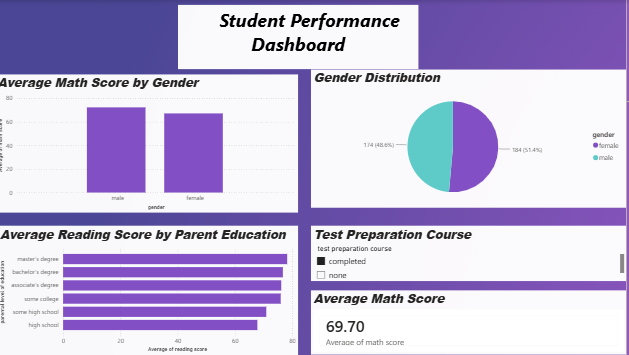

This screenshot's page, from the dashboard's own definition file:
{"tool":"powerbi","page":{"name":"Page 1","canvas":[1280,720],"ordinal":0},"visuals":[{"type":"clusteredColumnChart","title":"Average Math Score by Gender","fields":{"Y":["Avg(StudentsPerformance.math score)"],"Category":["StudentsPerformance.gender"]},"box":[0,150,615,280],"z":1000},{"type":"pieChart","title":"Gender Distribution","fields":{"Category":["StudentsPerformance.gender"],"Y":["CountNonNull(StudentsPerformance.gender)"]},"box":[640,140,640,280],"z":2000},{"type":"cardVisual","title":"Average Math Score","fields":{"Data":["Avg(StudentsPerformance.math score)"]},"box":[640,590,640,130],"z":3000},{"type":"clusteredBarChart","title":"Average Reading Score by Parent Education","fields":{"Category":["StudentsPerformance.parental level of education"],"Y":["Avg(StudentsPerformance.reading score)"]},"box":[5,457.5,610,262.5],"z":4000},{"type":"slicer","title":"Test Preparation Course","fields":{"Values":["StudentsPerformance.test preparation course"]},"box":[640,457.5,640,112.5],"z":5000},{"type":"textbox","box":[370,10,487.5,130],"z":7000}]}

Visuals, with their boxes in screenshot pixels (x1, y1, x2, y2), scaled from the page's 1280x720 canvas onto the 629x355 screenshot:
"Average Math Score by Gender" clusteredColumnChart: BBox(0, 74, 302, 212)
"Gender Distribution" pieChart: BBox(314, 69, 628, 207)
"Average Math Score" cardVisual: BBox(314, 291, 628, 354)
"Average Reading Score by Parent Education" clusteredBarChart: BBox(2, 226, 302, 354)
"Test Preparation Course" slicer: BBox(314, 226, 628, 281)
textbox: BBox(182, 5, 421, 69)
